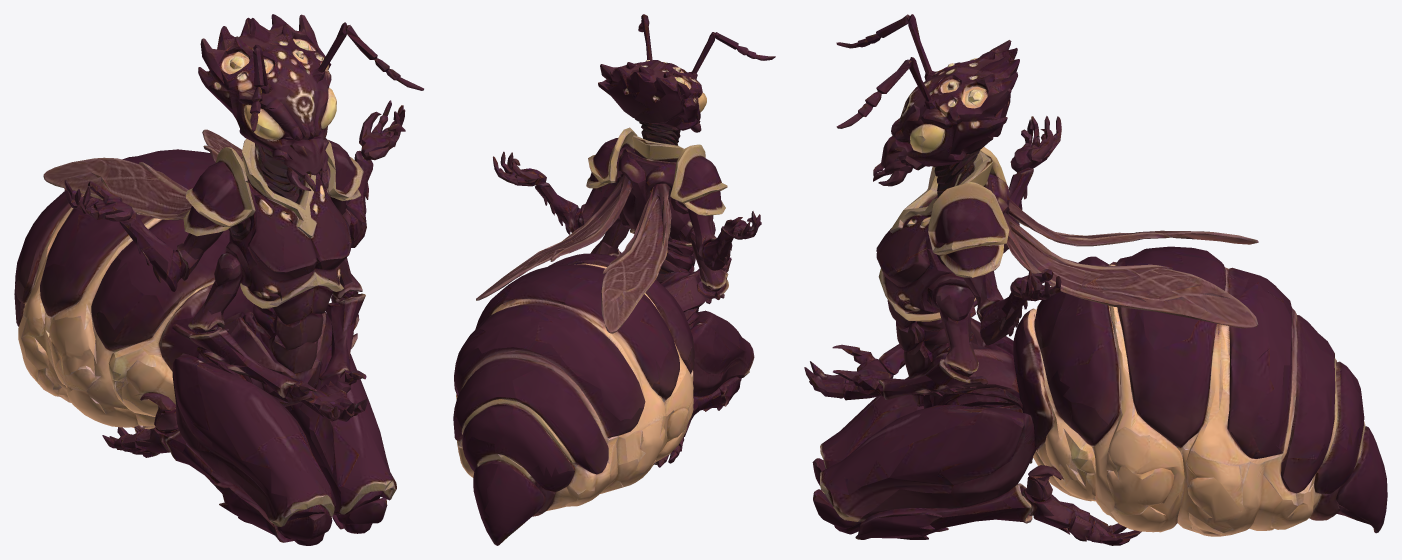
The model's file is kralice.glb.
The picture shows the model from 3 angles, left to right: view 1: azimuth 30°, elevation 25°; view 2: azimuth 150°, elevation 25°; view 3: azimuth 270°, elevation 25°; orthographic projection. The views are drawn at different scales.
Parts seen in each view (by area): view 1: gaster, head, torso, leg_R_thigh, leg_L_thigh, wing_R, arm_RL_upper, arm_RU_upper, leg_R_shin, arm_RL_lower, leg_R_foot, arm_LL_upper (+9 smaller); view 2: gaster, torso, head, wing_R, wing_L, leg_R_thigh, arm_RU_upper, leg_R_shin, arm_LU_upper, hand_LU, hand_RU, arm_LU_lower; view 3: gaster, leg_L_thigh, torso, head, wing_L, leg_L_shin, arm_LU_upper, arm_LL_upper, wing_R, leg_L_foot, leg_R_thigh, hand_LL (+5 smaller).
Part boxes in pixels (box(x1,y1,x2,y2)): gaster: box(14, 156, 204, 454); head: box(198, 14, 377, 220); torso: box(158, 157, 360, 350); leg_R_thigh: box(173, 323, 336, 545); leg_L_thigh: box(285, 302, 396, 533); wing_R: box(43, 151, 189, 226); arm_RL_upper: box(181, 239, 297, 372); arm_RU_upper: box(138, 168, 226, 291); leg_R_shin: box(171, 404, 293, 542); arm_RL_lower: box(239, 310, 310, 397); leg_R_foot: box(117, 400, 186, 462); arm_LL_upper: box(322, 209, 365, 358); gaster: box(453, 255, 700, 545); torso: box(563, 146, 723, 305); head: box(598, 14, 738, 175); wing_R: box(536, 236, 664, 333); wing_L: box(476, 227, 601, 322); leg_R_thigh: box(676, 271, 754, 380); arm_RU_upper: box(682, 161, 730, 270); leg_R_shin: box(693, 361, 748, 414); arm_LU_upper: box(549, 140, 610, 234); hand_LU: box(493, 151, 538, 186); hand_RU: box(724, 211, 761, 239); arm_LU_lower: box(530, 170, 556, 205); gaster: box(1001, 260, 1387, 545); leg_L_thigh: box(813, 355, 1022, 534); torso: box(876, 159, 1093, 403); head: box(873, 14, 1019, 241); wing_L: box(1058, 258, 1258, 337); leg_L_shin: box(847, 459, 1025, 539); arm_LU_upper: box(940, 205, 1022, 345); arm_LL_upper: box(887, 281, 982, 393); wing_R: box(1061, 230, 1258, 292); leg_L_foot: box(1002, 456, 1136, 543); leg_R_thigh: box(812, 303, 977, 485); hand_LL: box(804, 367, 886, 400).
Bounding box in the file's own units: 1.28 × 1.79 × 1.9.
Materials: 1 (1 with a texture image).
